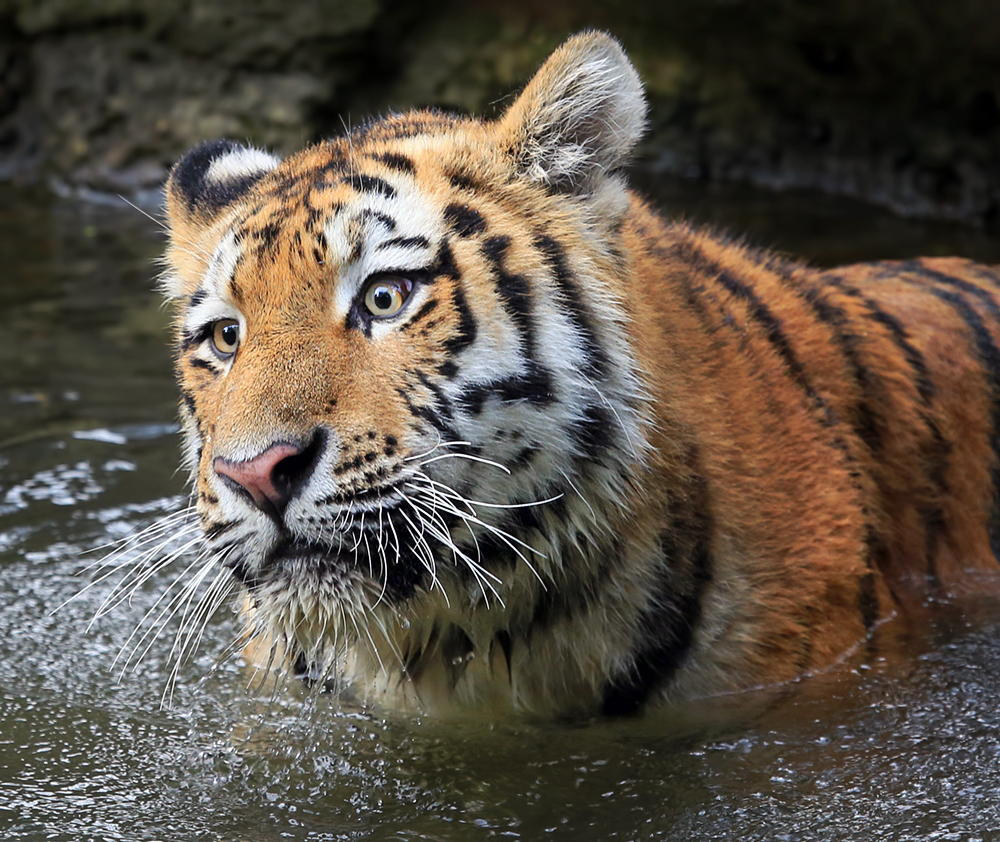tiger: (154, 32, 982, 747)
